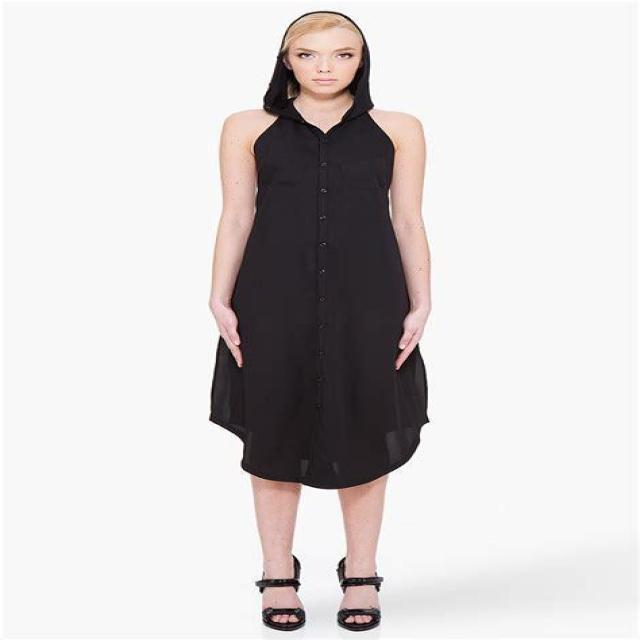dress: (207, 11, 430, 490)
